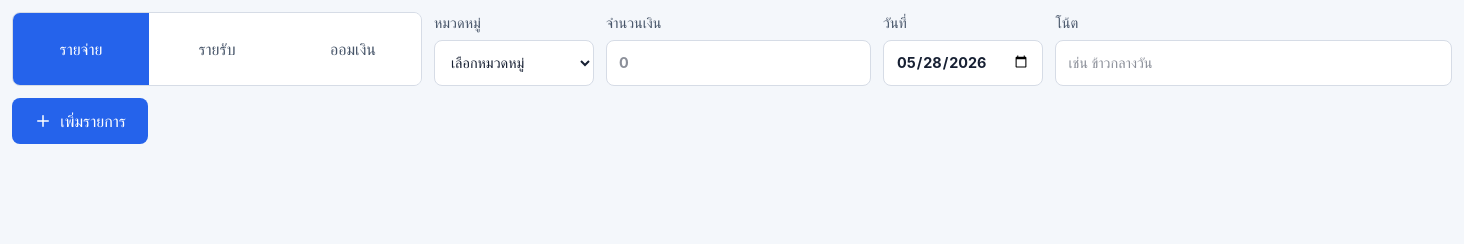
TransactionForm › shows validation errors for empty category and invalid amount
Click the button "เพิ่มรายการ".
click(80, 121)  # box 12,98 -> 148,144
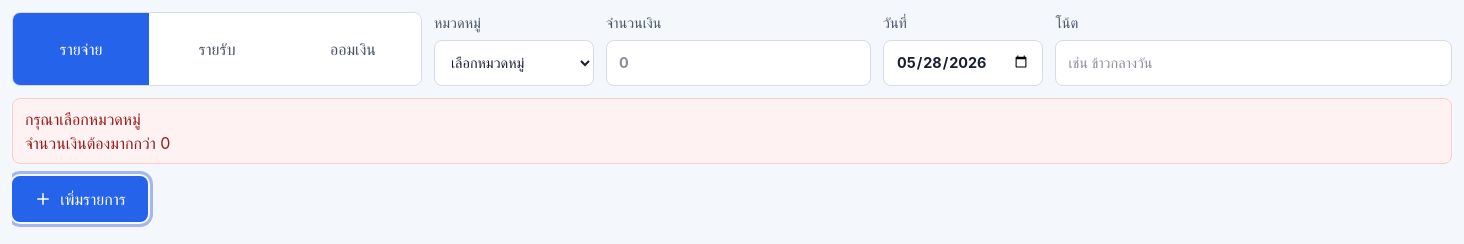
Now the message shows "กรุณาเลือกหมวดหมู่", box 25,109 -> 141,129
Now the message shows "จำนวนเงินต้องมากกว่า 0", box 25,133 -> 170,153
